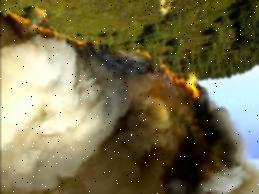fire: (0, 9, 87, 48), (164, 74, 210, 102)
